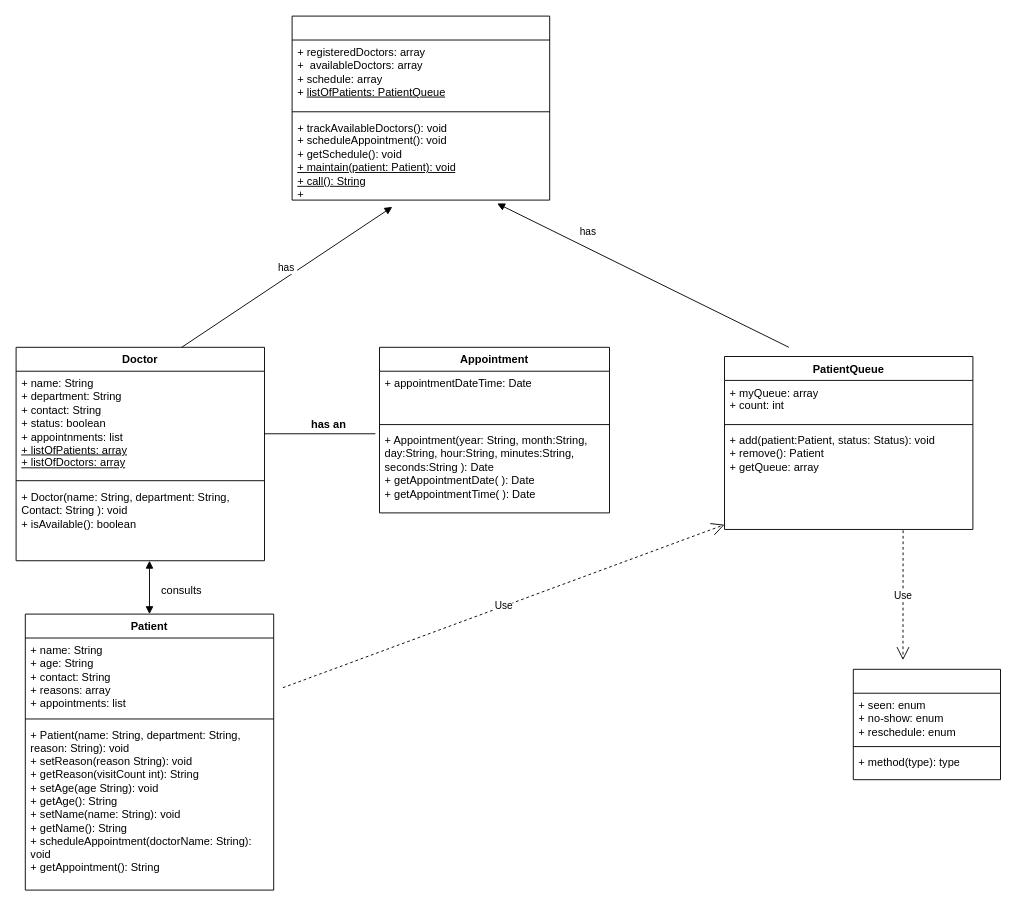
This 1017x909 diagram has some shape labels left out. Each missing label, with the box of its shape:
Admin: (291, 15, 550, 200)
Status: (852, 668, 1000, 780)
